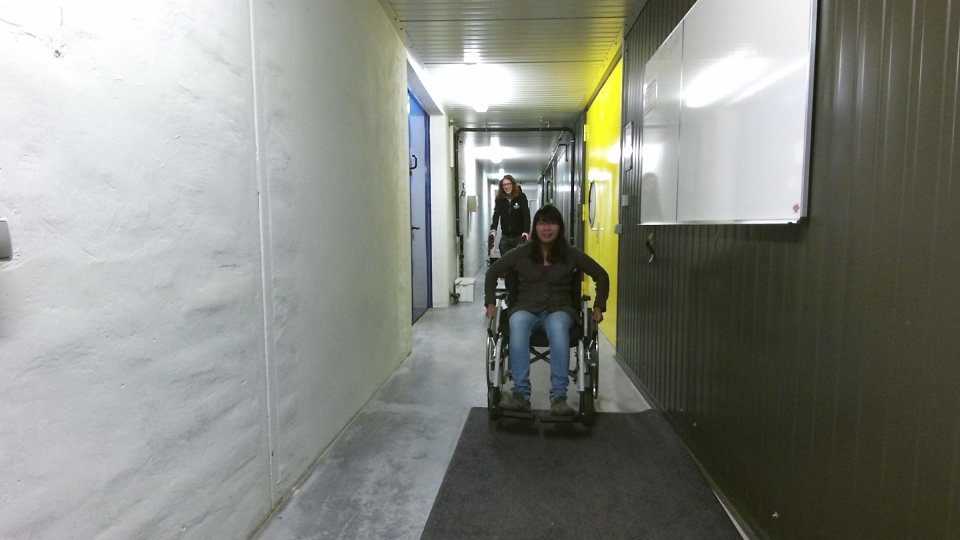wheelchair: (480, 201, 615, 437)
